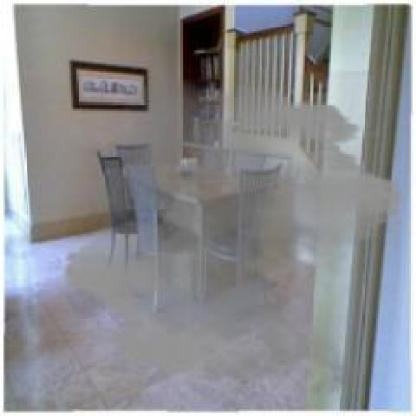Smoke: (52, 70, 414, 407)
